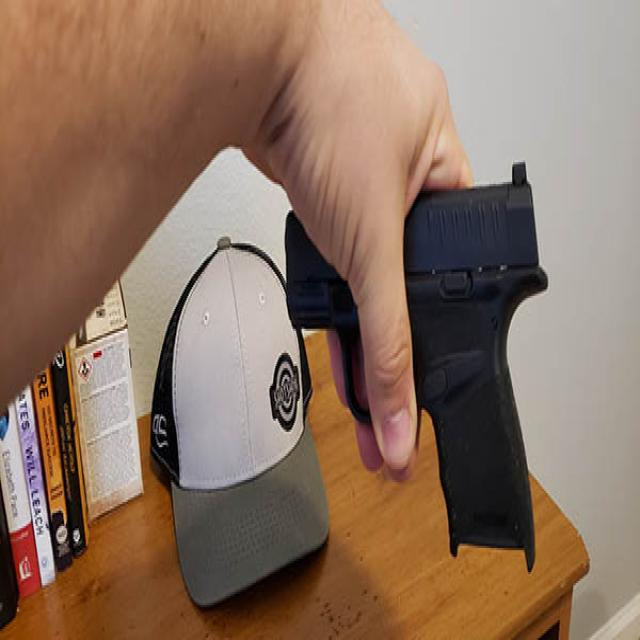HandGun: (271, 158, 548, 581)
